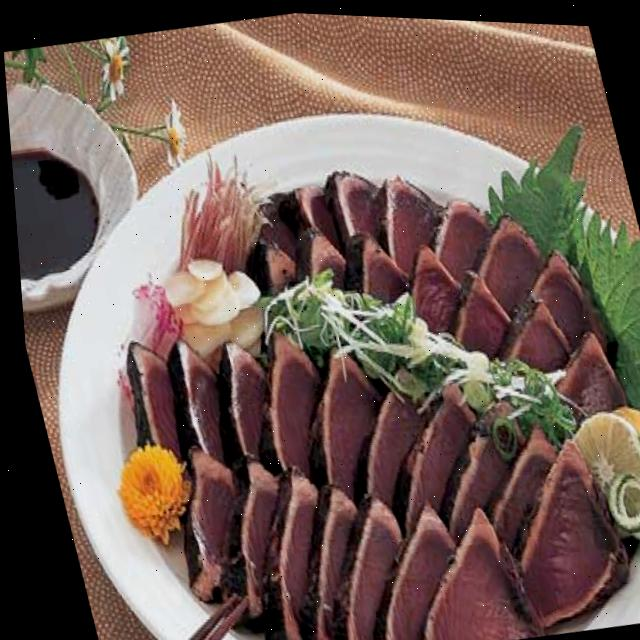熟制海鲜: (51, 30, 640, 640)
